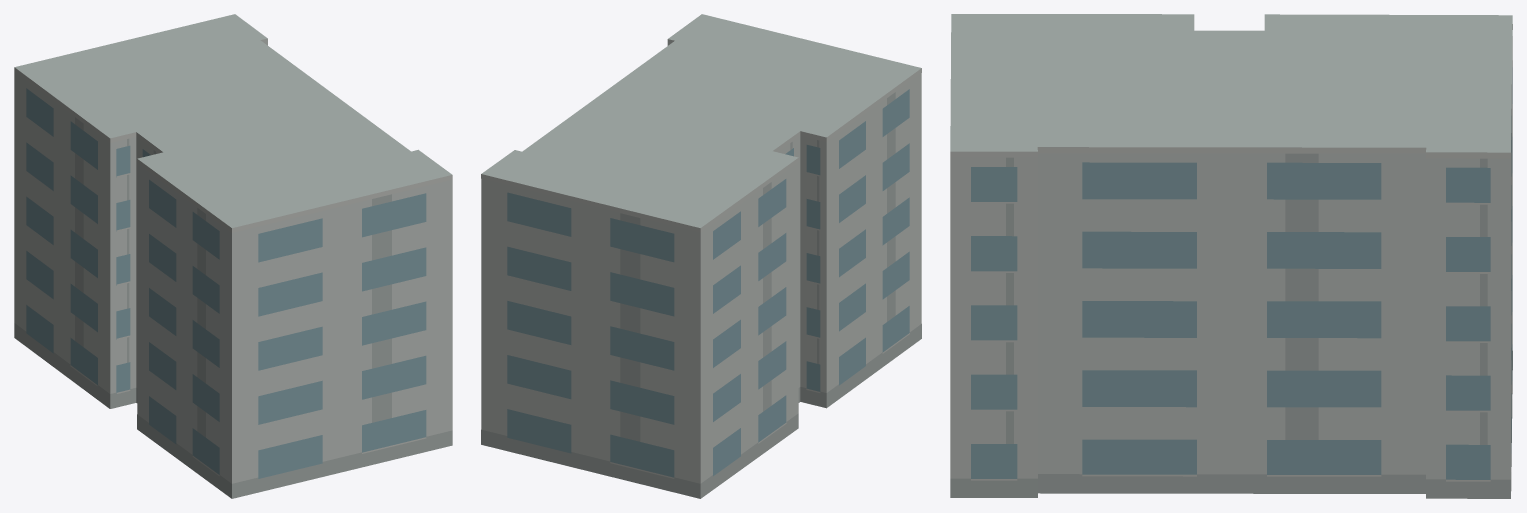
File: survey-upis-32769329.glb
3 views of the same model, side by side, from view 1: azimuth 30°, elevation 25°; view 2: azimuth 150°, elevation 25°; view 3: azimuth 270°, elevation 25° (orthographic). The views are drawn at different scales.
Visible parts, largest first — view 1: survey-upis-32769329.tmp; view 2: survey-upis-32769329.tmp; view 3: survey-upis-32769329.tmp.
Boxes of the visible parts, <box> form: survey-upis-32769329.tmp: <box>14,14,452,498</box>; survey-upis-32769329.tmp: <box>481,14,921,498</box>; survey-upis-32769329.tmp: <box>950,14,1512,498</box>.
Size of the model in its own units: 11.86 by 13.8 by 20.33.
